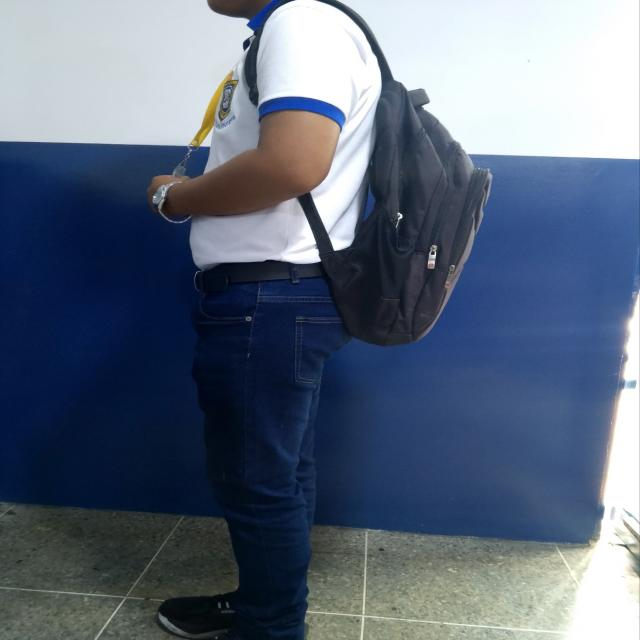pantalon_oscuro: (190, 276, 352, 640)
uniforme_superior: (188, 1, 384, 272)
